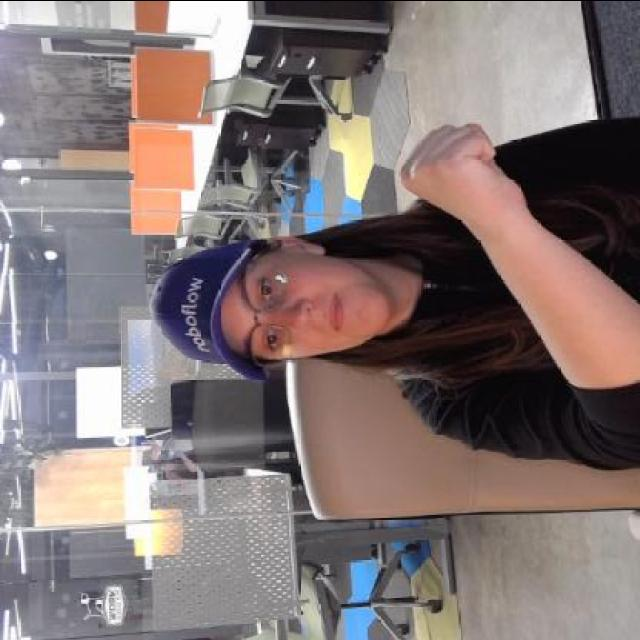Rock: (397, 115, 532, 214)
